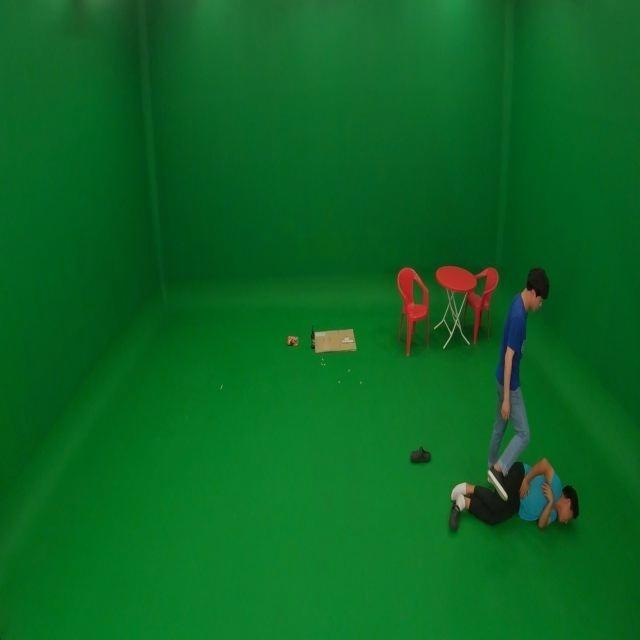fight: (444, 265, 582, 540)
